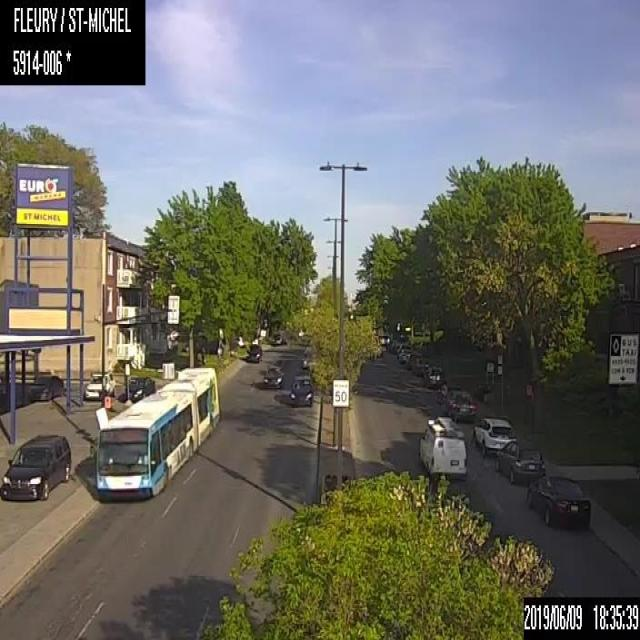bus: (94, 364, 221, 501)
vehicle: (1, 432, 71, 505), (526, 470, 590, 536), (417, 417, 465, 476), (494, 438, 544, 486), (472, 415, 513, 457), (26, 371, 64, 403), (446, 389, 475, 421), (84, 367, 113, 399), (289, 372, 312, 407), (124, 374, 154, 400), (424, 364, 444, 389), (261, 364, 284, 385), (437, 383, 455, 407), (244, 342, 261, 362), (412, 354, 428, 375), (405, 350, 419, 368), (270, 332, 282, 344)
